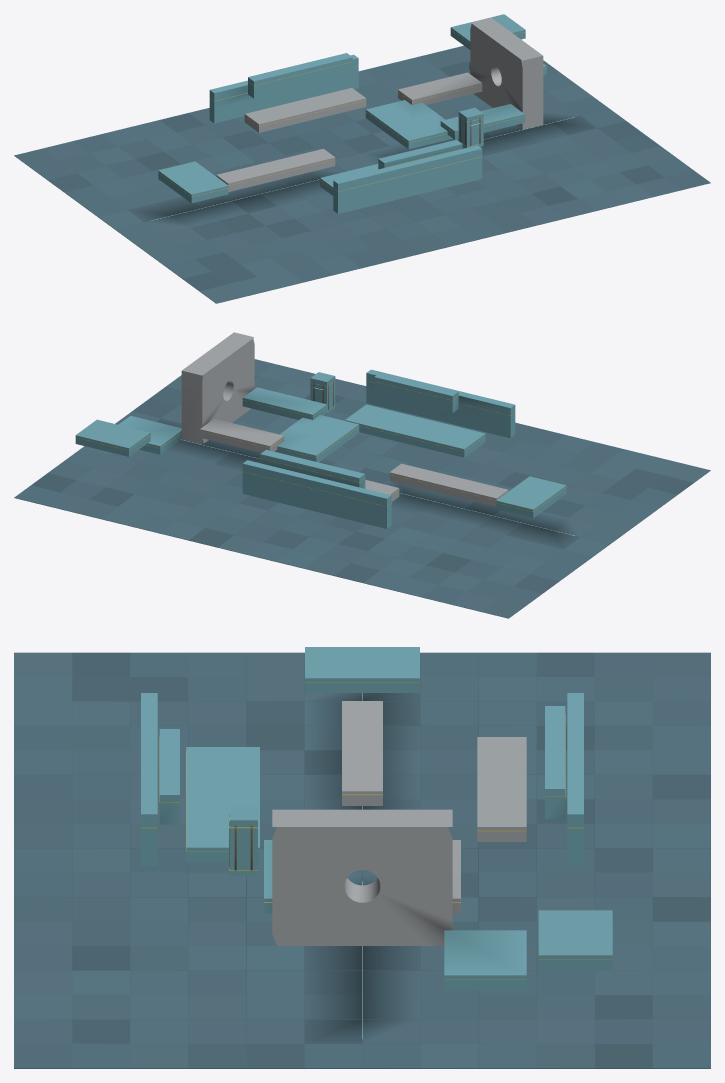
Rendered from 01_world.glb.
3 renders of one model, top to bottom at view 1: azimuth 30°, elevation 25°; view 2: azimuth 150°, elevation 25°; view 3: azimuth 270°, elevation 25°, orthographic. The views are drawn at different scales.
Visible parts, largest first — view 1: world_01_floor_noshadow_nocol, world_11_floor_noshadow_nocol, world_00_floor_noshadow_nocol, world_10_floor_noshadow_nocol, world_01_foam_nocol, world_11_foam_nocol, world_11_body_nocol, world_00_foam_nocol, world_00_body_nocol, world_01_body_nocol, world_10_body_nocol, world_10_foam_nocol; view 2: world_00_floor_noshadow_nocol, world_10_floor_noshadow_nocol, world_01_floor_noshadow_nocol, world_01_foam_nocol, world_11_floor_noshadow_nocol, world_11_foam_nocol, world_00_foam_nocol, world_11_body_nocol, world_10_foam_nocol, world_01_body_nocol, world_10_body_nocol; view 3: world_11_floor_noshadow_nocol, world_10_floor_noshadow_nocol, world_00_floor_noshadow_nocol, world_01_floor_noshadow_nocol, world_11_body_nocol, world_01_foam_nocol, world_10_foam_nocol, world_00_foam_nocol, world_00_body_nocol, world_11_foam_nocol, world_01_body_nocol, world_10_body_nocol.
Boxes of the visible parts, bbox=[...] form: world_01_floor_noshadow_nocol: bbox=[115, 179, 463, 303]; world_11_floor_noshadow_nocol: bbox=[388, 109, 710, 246]; world_00_floor_noshadow_nocol: bbox=[14, 108, 345, 229]; world_10_floor_noshadow_nocol: bbox=[285, 45, 609, 171]; world_01_foam_nocol: bbox=[158, 145, 482, 213]; world_11_foam_nocol: bbox=[365, 100, 524, 169]; world_11_body_nocol: bbox=[470, 17, 543, 129]; world_00_foam_nocol: bbox=[209, 53, 358, 123]; world_00_body_nocol: bbox=[244, 88, 366, 132]; world_01_body_nocol: bbox=[216, 148, 335, 191]; world_10_body_nocol: bbox=[398, 72, 482, 104]; world_10_foam_nocol: bbox=[450, 14, 546, 75]; world_00_floor_noshadow_nocol: bbox=[261, 493, 609, 618]; world_10_floor_noshadow_nocol: bbox=[14, 423, 336, 561]; world_01_floor_noshadow_nocol: bbox=[381, 422, 710, 544]; world_01_foam_nocol: bbox=[345, 369, 566, 518]; world_11_floor_noshadow_nocol: bbox=[115, 359, 460, 483]; world_11_foam_nocol: bbox=[242, 372, 458, 462]; world_00_foam_nocol: bbox=[242, 449, 391, 528]; world_11_body_nocol: bbox=[181, 332, 254, 444]; world_10_foam_nocol: bbox=[75, 415, 181, 456]; world_01_body_nocol: bbox=[389, 463, 508, 506]; world_10_body_nocol: bbox=[200, 418, 284, 452]; world_11_floor_noshadow_nocol: bbox=[14, 848, 362, 1068]; world_10_floor_noshadow_nocol: bbox=[362, 848, 710, 1068]; world_00_floor_noshadow_nocol: bbox=[362, 652, 710, 860]; world_01_floor_noshadow_nocol: bbox=[14, 652, 362, 859]; world_11_body_nocol: bbox=[272, 809, 452, 945]; world_01_foam_nocol: bbox=[141, 647, 419, 866]; world_10_foam_nocol: bbox=[444, 910, 612, 990]; world_00_foam_nocol: bbox=[545, 693, 583, 866]; world_00_body_nocol: bbox=[477, 737, 526, 841]; world_11_foam_nocol: bbox=[159, 729, 370, 913]; world_01_body_nocol: bbox=[342, 701, 382, 805]; world_10_body_nocol: bbox=[452, 840, 460, 913].
Size of the model in its own units: 240 by 44.12 by 170.
